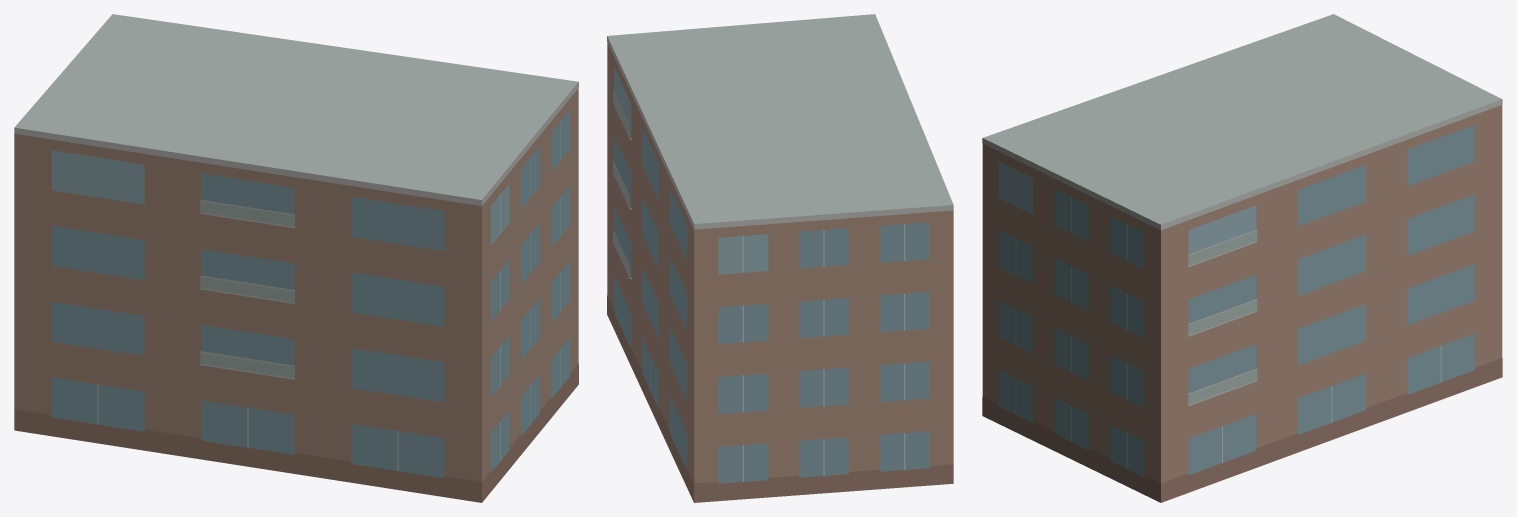
File: survey-upis-32774950.glb
3 views of the same model, side by side, from view 1: azimuth 30°, elevation 25°; view 2: azimuth 150°, elevation 25°; view 3: azimuth 270°, elevation 25° (orthographic). The views are drawn at different scales.
Parts seen in each view (by area): view 1: survey-upis-32774950.tmp; view 2: survey-upis-32774950.tmp; view 3: survey-upis-32774950.tmp.
Boxes of the visible parts, x1,y1,x2,y2 form: survey-upis-32774950.tmp: (14, 14, 578, 502); survey-upis-32774950.tmp: (607, 14, 953, 502); survey-upis-32774950.tmp: (982, 14, 1502, 502).
Bounding box in the file's own units: 19.84 × 12.2 × 20.68.
